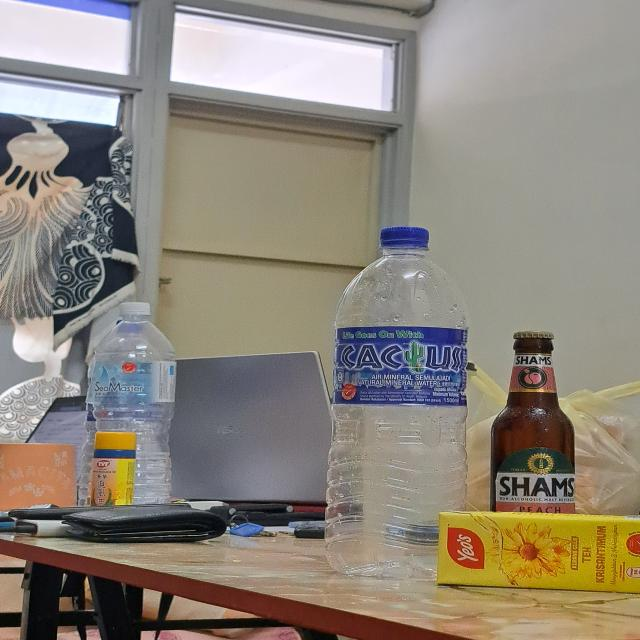drink carton: (441, 505, 640, 595)
glass bottle: (488, 330, 578, 540)
plastic bottle: (333, 251, 472, 580), (88, 320, 182, 515)
plastic bottle cap: (383, 225, 429, 252), (122, 297, 149, 316)
